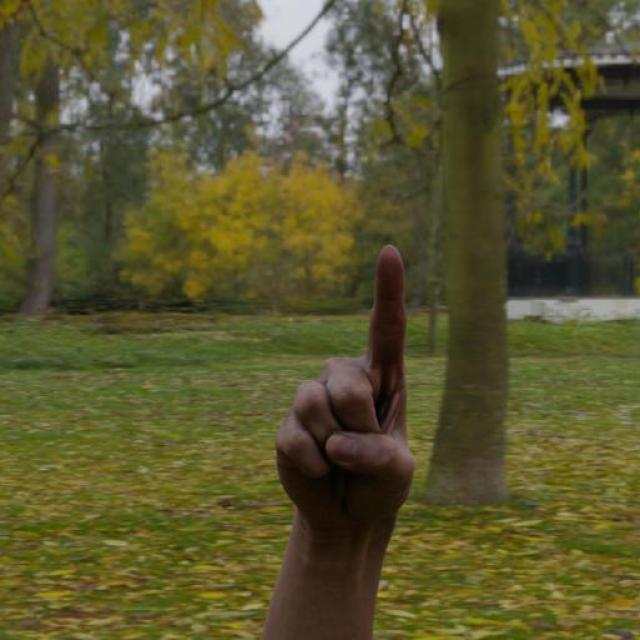Z: (270, 237, 417, 518)
